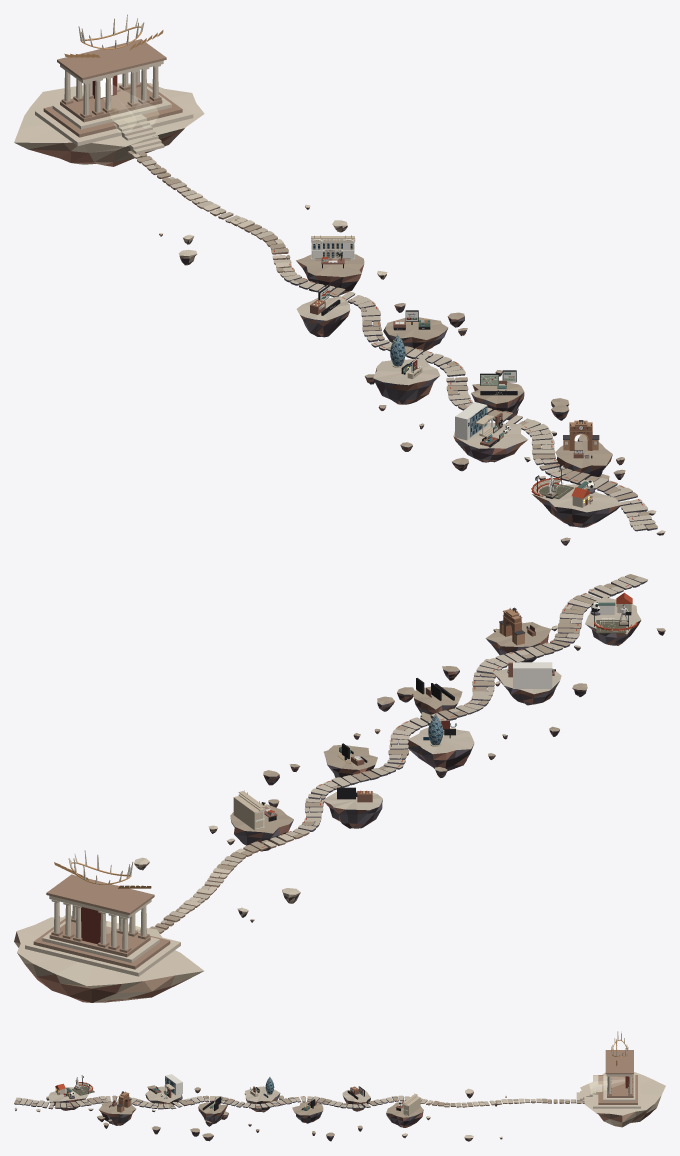
File: biographical.glb
3 renders of one model, top to bottom at view 1: azimuth 30°, elevation 25°; view 2: azimuth 150°, elevation 25°; view 3: azimuth 270°, elevation 25°, orthographic. The views are drawn at different scales.
Parts seen in each view (by area): view 1: Monument / suspended bedrock, Monument / cornice, Laurea triennale · SEF · Londra / isola, Infanzia, famiglia e calcio / isola, Università di Camerino / isola, Politecnico di Milano / isola, Monument / terrace 1, Boccone · Spesino · Nodale / isola, Amandola · Scuole superiori / isola, Prenivo / isola, Monument / terrace 4, Monument / terrace 2 (+2 smaller); view 2: Monument / suspended bedrock, Monument / cornice, Laurea triennale · SEF · Londra / isola, Prenivo / isola, Monument / terrace 1, Politecnico di Milano / isola, Monument / terrace 2, Boccone · Spesino · Nodale / isola, Camerino / corpo del campus, Amandola · Scuole superiori / isola, Infanzia, famiglia e calcio / isola, Monument / terrace 4 (+5 smaller); view 3: Monument / suspended bedrock, Monument / cornice, Amandola · Scuole superiori / isola, Politecnico di Milano / isola, Laurea triennale · SEF · Londra / isola, Boccone · Spesino · Nodale / isola, Monument / terrace 4, Monument / terrace 1, UniStays / isola, Infanzia, famiglia e calcio / isola, Università di Camerino / isola, Monument / terrace 2 (+6 smaller).
Part boxes in pixels (x1,y1,x2,y2): Monument / suspended bedrock: (14,83,204,166); Monument / cornice: (57,39,166,80); Laurea triennale · SEF · Londra / isola: (373,358,440,404); Infanzia, famiglia e calcio / isola: (532,484,621,527); Università di Camerino / isola: (453,422,527,462); Politecnico di Milano / isola: (296,254,364,294); Monument / terrace 1: (35,83,193,145); Boccone · Spesino · Nodale / isola: (383,317,448,351); Amandola · Scuole superiori / isola: (555,440,612,485); Prenivo / isola: (296,296,350,337); Monument / terrace 4: (60,84,162,122); Monument / terrace 2: (43,83,182,137); Monument / suspended bedrock: (14,917,203,1002); Monument / cornice: (46,874,154,915); Laurea triennale · SEF · Londra / isola: (407,727,474,771); Prenivo / isola: (323,791,382,828); Monument / terrace 1: (25,915,180,976); Politecnico di Milano / isola: (230,804,293,851); Monument / terrace 2: (33,916,170,969); Boccone · Spesino · Nodale / isola: (324,744,377,777); Camerino / corpo del campus: (513,662,552,688); Amandola · Scuole superiori / isola: (485,622,551,662); Infanzia, famiglia e calcio / isola: (585,597,641,645); Monument / terrace 4: (49,921,150,957); Monument / suspended bedrock: (580,1072,665,1127); Monument / cornice: (605,1050,633,1074); Amandola · Scuole superiori / isola: (98,1101,136,1125); Politecnico di Milano / isola: (386,1102,423,1127); Laurea triennale · SEF · Londra / isola: (245,1086,280,1112); Boccone · Spesino · Nodale / isola: (292,1101,323,1123); Monument / terrace 4: (607,1074,633,1097); Monument / terrace 1: (593,1075,640,1108); UniStays / isola: (198,1102,227,1124); Infanzia, famiglia e calcio / isola: (48,1086,88,1110); Università di Camerino / isola: (145,1086,182,1108); Monument / terrace 2: (598,1075,637,1104).
Bounding box in the file's own units: 48.84 × 32.91 × 245.
